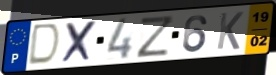4: (106, 17, 135, 61)
6: (182, 14, 209, 53)
D: (26, 22, 63, 67)
K: (215, 10, 245, 51)
X: (60, 19, 99, 66)
Z: (135, 14, 177, 60)
